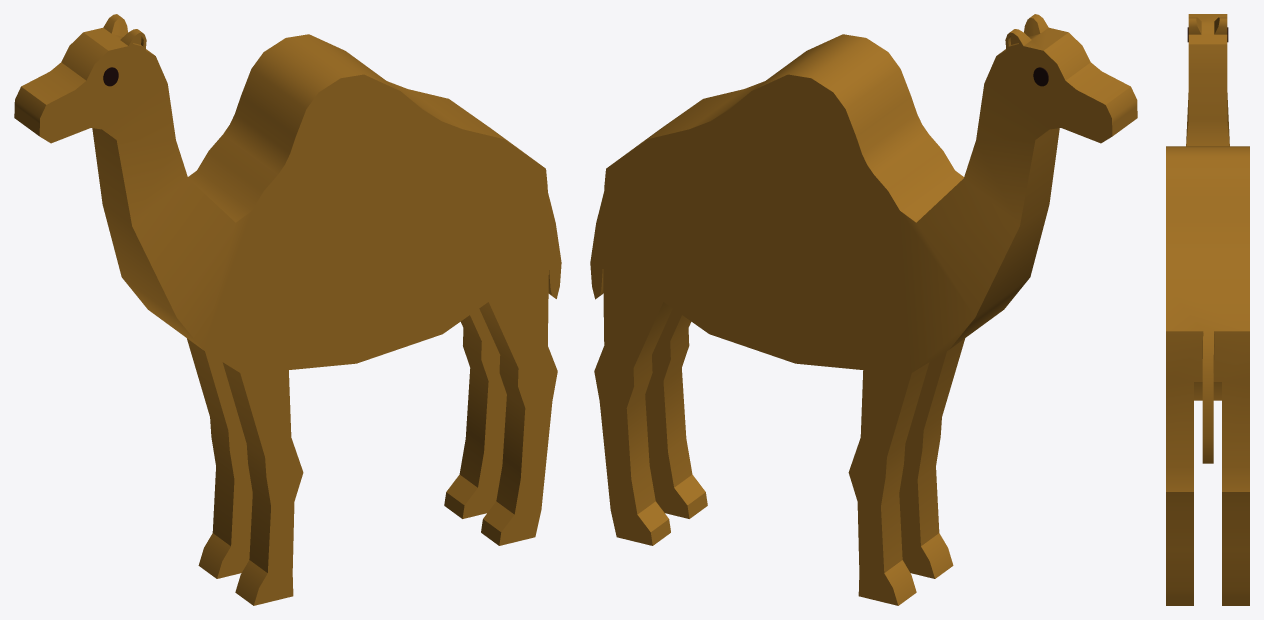
Rendered from Camel.gltf.
The picture shows the model from 3 angles, left to right: view 1: azimuth 30°, elevation 25°; view 2: azimuth 150°, elevation 25°; view 3: azimuth 270°, elevation 25°; orthographic projection. The views are drawn at different scales.
Visible parts, largest first — view 1: Plane.126; view 2: Plane.126; view 3: Plane.126.
Boxes of the visible parts, bbox=[...] form: Plane.126: bbox=[14, 14, 561, 605]; Plane.126: bbox=[590, 14, 1137, 605]; Plane.126: bbox=[1166, 14, 1249, 605].
Size of the model in its own units: 2 by 2.11 by 0.36.
